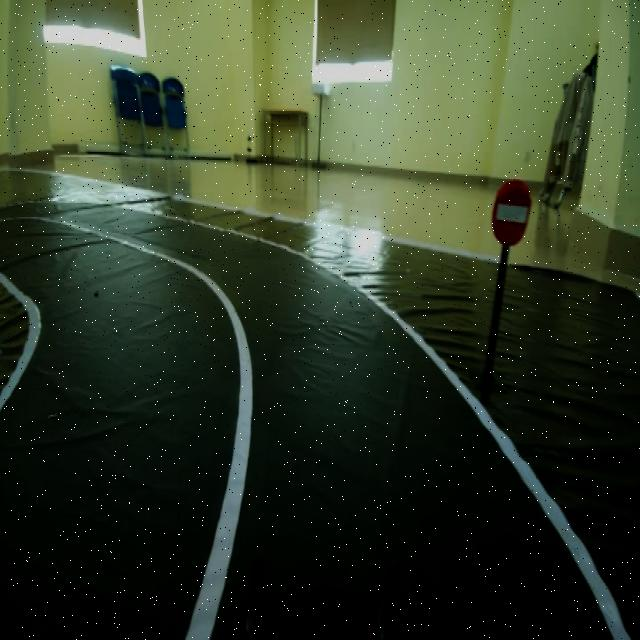no_entry: (486, 169, 540, 262)
